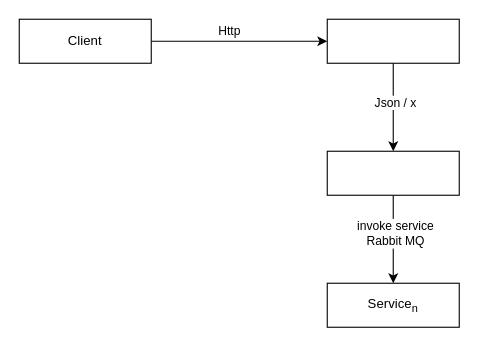
The diagram is 479 pixels wide and 347 high, and some of its shapes have lost their labels. Each missing label, with the box of its shape:
Request_Handler: (326, 150, 459, 195)
Web-api: (326, 18, 459, 63)
